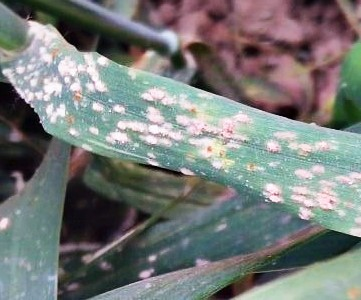Powdery Mildew: (26, 41, 339, 219)
